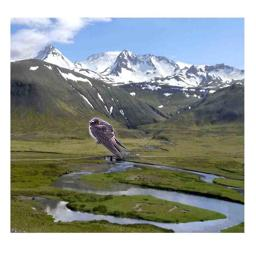Swallow: (88, 117, 128, 159)
